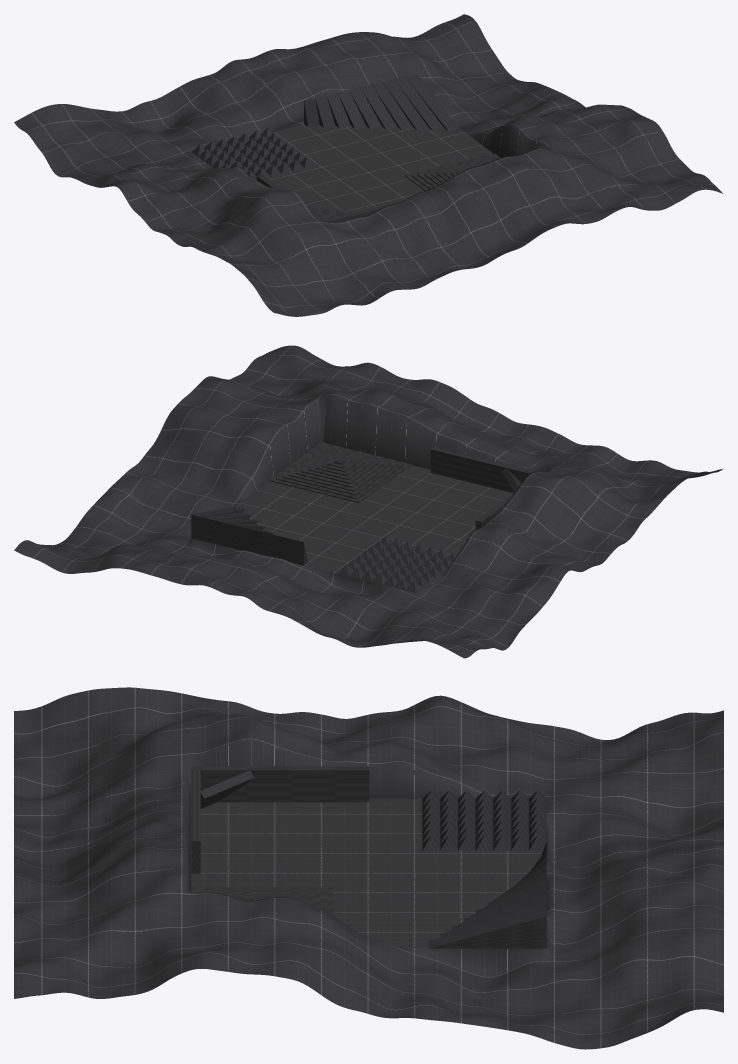
The model's file is playground.glb.
3 views of the same model, one above another, from view 1: azimuth 30°, elevation 25°; view 2: azimuth 150°, elevation 25°; view 3: azimuth 270°, elevation 25° (orthographic). The views are drawn at different scales.
Visible parts, largest first — view 1: Base, Cube, Cube.001, Cube.007, Cube.002, Cube.003, Cube.004, Cube.008, Cube.009, Cube.005, Cube.010, Cube.011; view 2: Base, Cube, Cube.005, Cube.007, Cube.014, Cube.017, Cube.016, Cube.001, Cube.002; view 3: Base, Cube, Cube.005, Cube.001, Cube.007, Cube.006, Cube.002, Cube.017, Cube.003.
Boxes of the visible parts, bbox=[...] form: Base: bbox=[14, 14, 722, 316]; Cube: bbox=[192, 128, 315, 179]; Cube.001: bbox=[405, 73, 459, 131]; Cube.007: bbox=[404, 164, 466, 190]; Cube.002: bbox=[394, 76, 443, 130]; Cube.003: bbox=[383, 79, 428, 130]; Cube.004: bbox=[371, 81, 412, 129]; Cube.008: bbox=[360, 84, 397, 129]; Cube.009: bbox=[349, 87, 381, 129]; Cube.005: bbox=[256, 174, 403, 221]; Cube.010: bbox=[338, 90, 365, 128]; Cube.011: bbox=[326, 92, 350, 128]; Base: bbox=[14, 345, 722, 658]; Cube: bbox=[338, 536, 456, 592]; Cube.005: bbox=[430, 447, 534, 529]; Cube.007: bbox=[314, 461, 385, 502]; Cube.014: bbox=[269, 460, 339, 491]; Cube.017: bbox=[340, 453, 411, 483]; Cube.016: bbox=[295, 442, 365, 461]; Cube.001: bbox=[191, 506, 245, 540]; Cube.002: bbox=[202, 512, 252, 543]; Base: bbox=[14, 687, 723, 1049]; Cube: bbox=[422, 790, 546, 850]; Cube.005: bbox=[191, 766, 369, 873]; Cube.001: bbox=[428, 909, 546, 948]; Cube.007: bbox=[262, 887, 333, 915]; Cube.006: bbox=[200, 770, 254, 808]; Cube.002: bbox=[440, 901, 546, 937]; Cube.017: bbox=[191, 887, 262, 900]; Cube.003: bbox=[452, 894, 546, 929].
Bounding box in the file's own units: 120 × 17.38 × 120.
2 materials, 2 textured.
